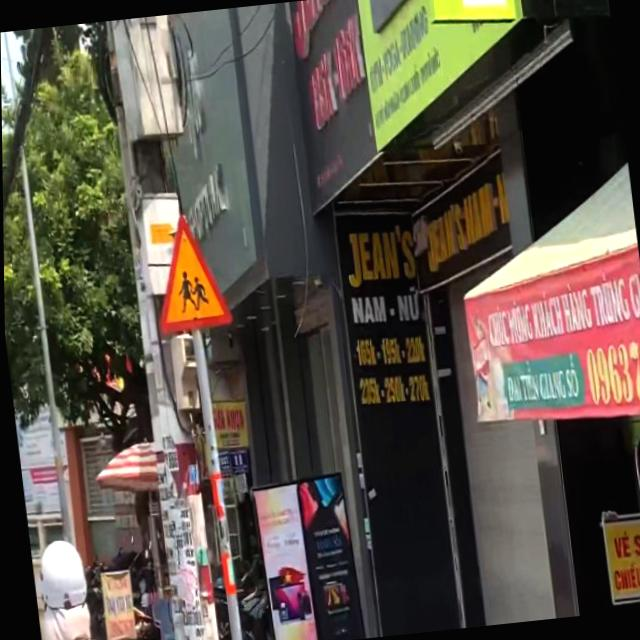Tre em: (145, 208, 232, 336)
